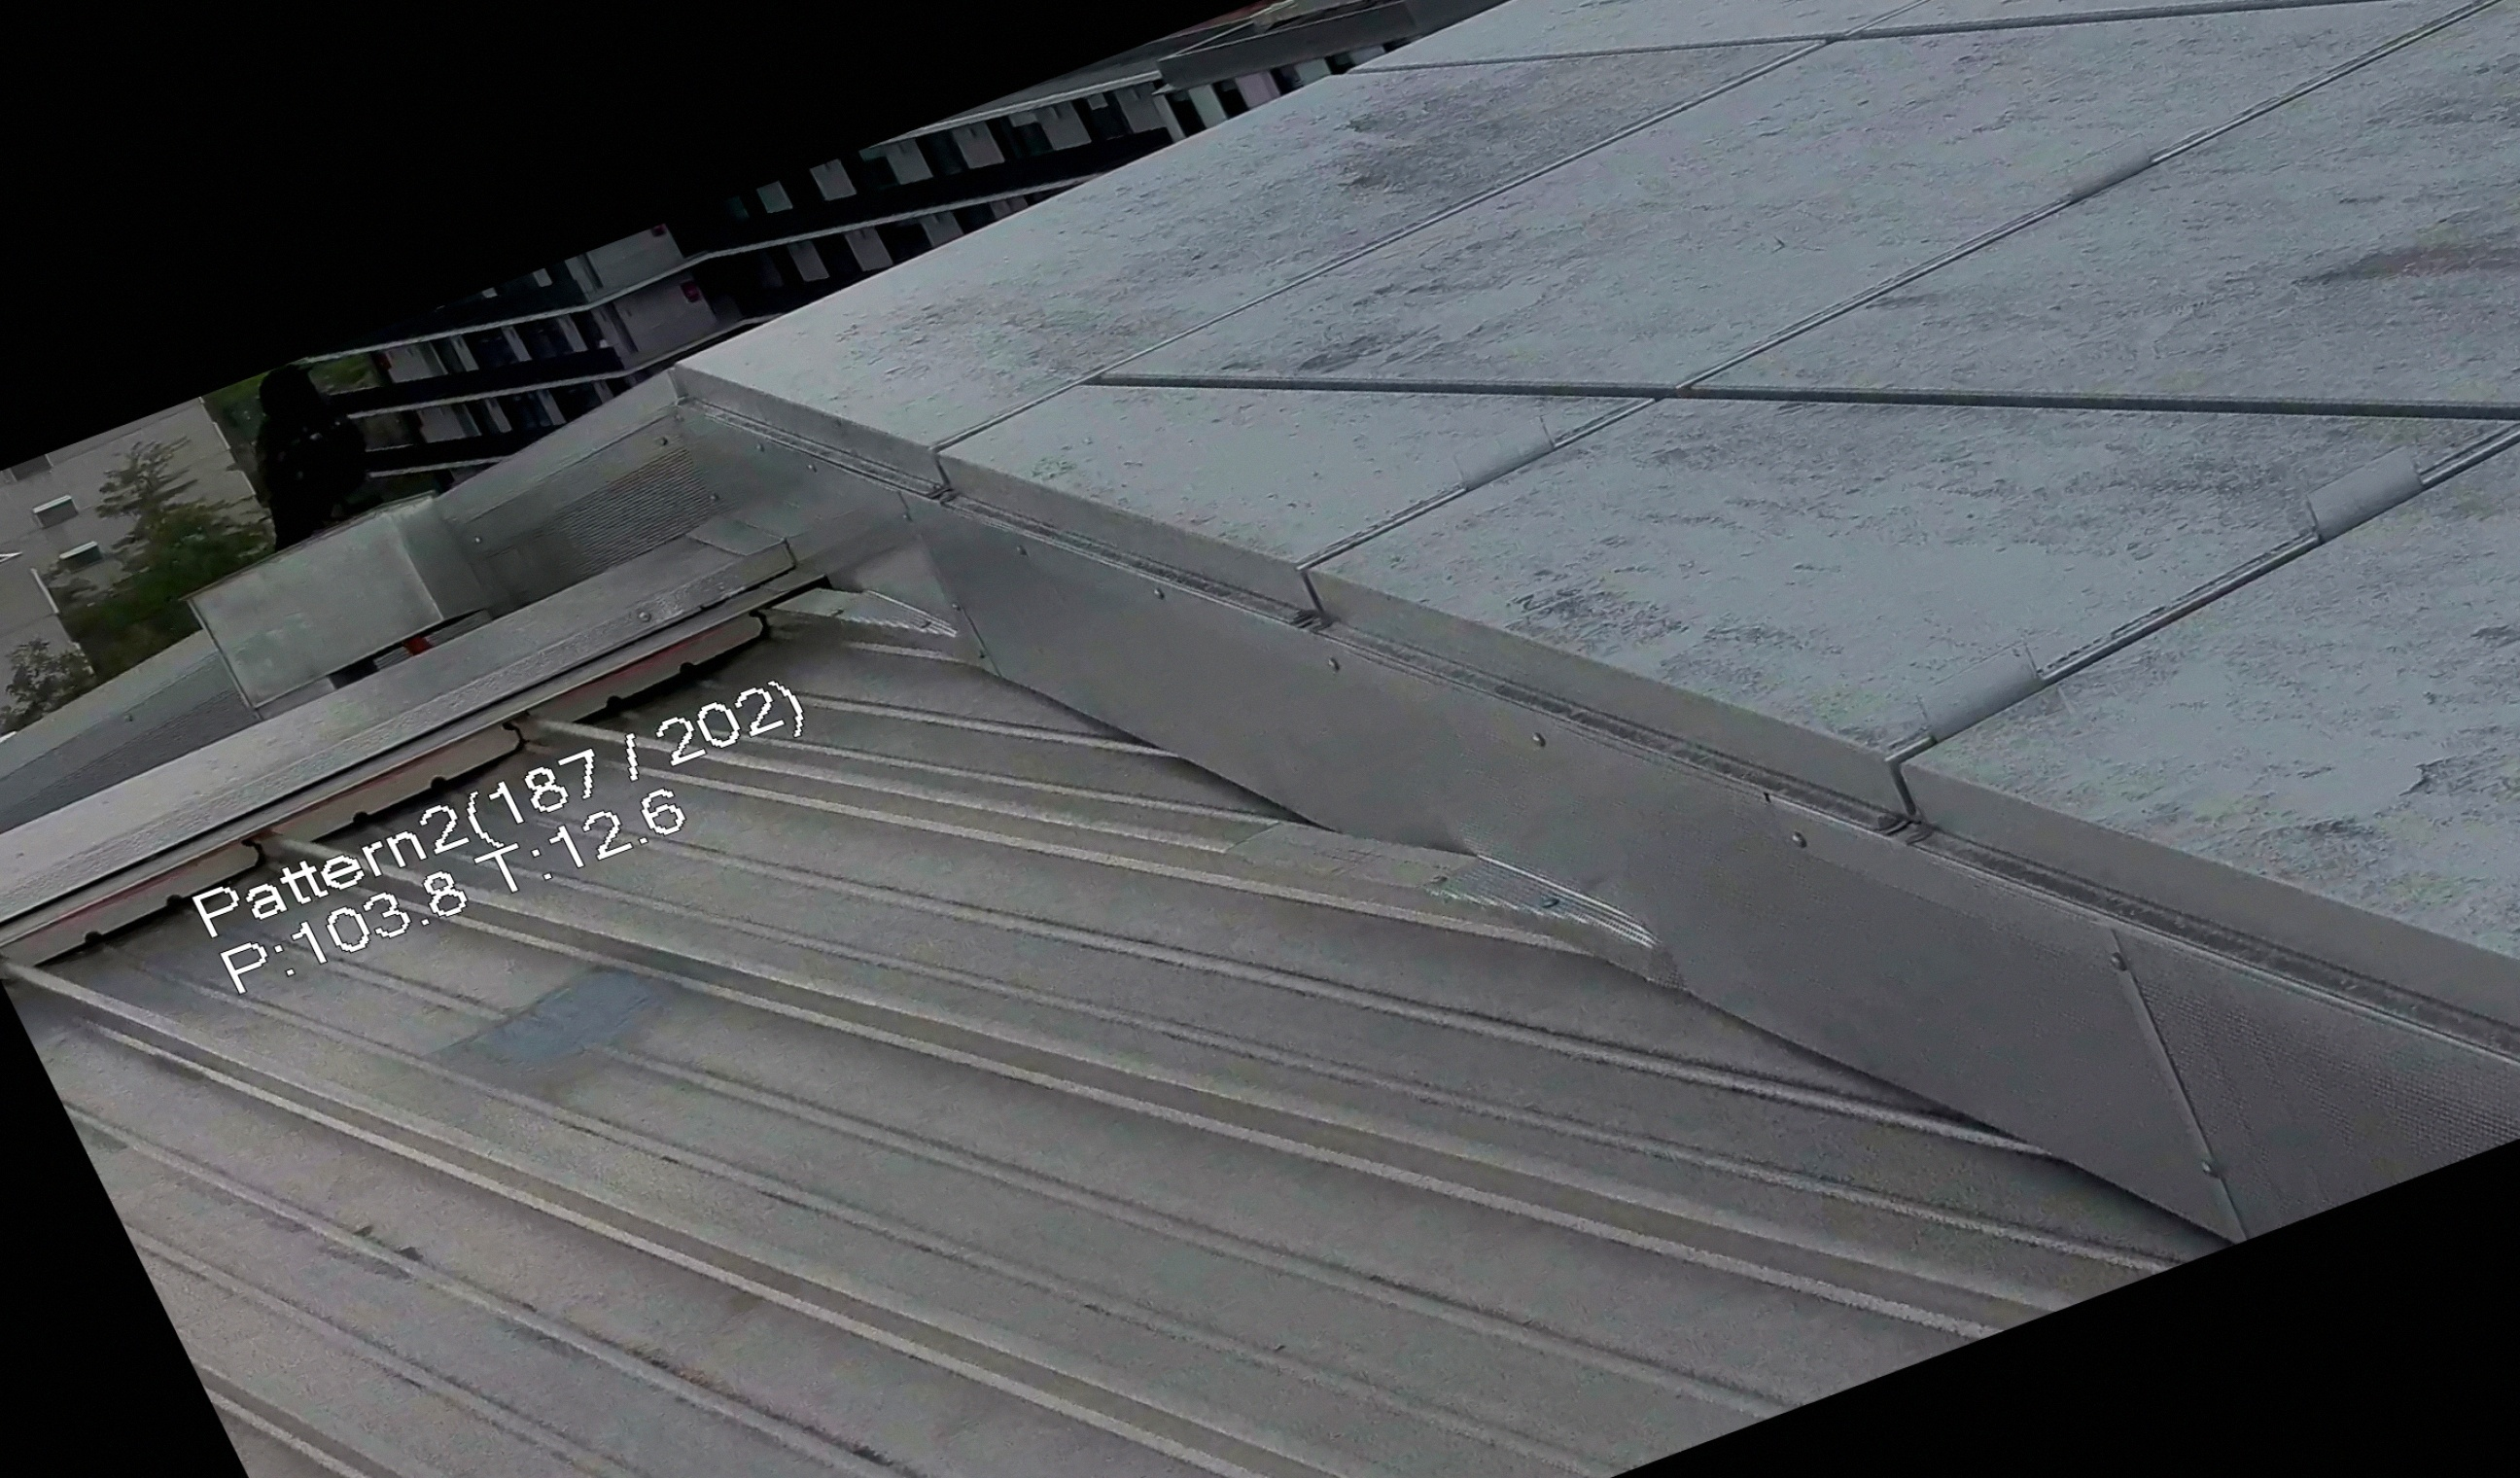Other: (179, 354, 392, 552)
